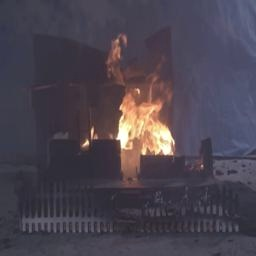fire: (108, 58, 181, 175)
